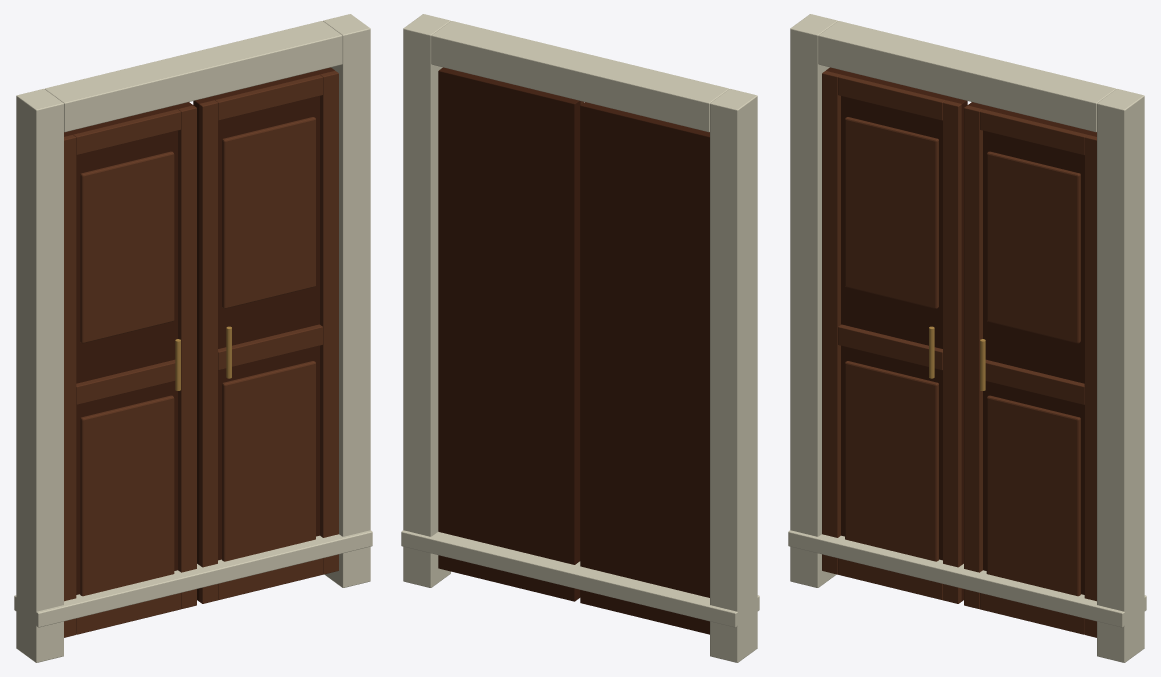
The model's file is source-edit.glb.
3 renders of one model, left to right at view 1: azimuth 30°, elevation 25°; view 2: azimuth 150°, elevation 25°; view 3: azimuth 330°, elevation 25°, orthographic.
Parts seen in each view (by area): view 1: DOOR_Jamb, DOOR_Jamb.001, Left_RaisedPanel, Right_RaisedPanel, Left_RaisedPanel.001, Right_RaisedPanel.001, DOOR_Header, Right_Core, Left_Core, Right_Stile.001, Right_Stile, Left_Stile.001 (+8 smaller); view 2: Right_Core, Left_Core, DOOR_Jamb, DOOR_Jamb.001, DOOR_Header, DOOR_Sill; view 3: DOOR_Jamb.001, DOOR_Jamb, Right_RaisedPanel, Left_RaisedPanel, Right_RaisedPanel.001, Left_RaisedPanel.001, DOOR_Header, Left_Core, Right_Core, Left_Stile.001, Left_Stile, Right_Stile.001 (+8 smaller).
Boxes of the visible parts, x1=… form: DOOR_Jamb: x1=16, y1=89, x2=63, y2=662; DOOR_Jamb.001: x1=323, y1=14, x2=370, y2=587; Left_RaisedPanel: x1=80, y1=395, x2=174, y2=596; Right_RaisedPanel: x1=222, y1=361, x2=315, y2=561; Left_RaisedPanel.001: x1=80, y1=151, x2=174, y2=343; Right_RaisedPanel.001: x1=222, y1=117, x2=315, y2=308; DOOR_Header: x1=45, y1=21, x2=342, y2=132; Right_Core: x1=193, y1=67, x2=334, y2=601; Left_Core: x1=64, y1=102, x2=192, y2=594; Right_Stile.001: x1=199, y1=100, x2=217, y2=603; Right_Stile: x1=320, y1=71, x2=338, y2=574; Left_Stile.001: x1=178, y1=105, x2=196, y2=609; Right_Core: x1=438, y1=67, x2=580, y2=601; Left_Core: x1=580, y1=102, x2=709, y2=634; DOOR_Jamb: x1=710, y1=89, x2=757, y2=662; DOOR_Jamb.001: x1=403, y1=14, x2=450, y2=587; DOOR_Header: x1=431, y1=21, x2=728, y2=132; DOOR_Sill: x1=401, y1=530, x2=759, y2=627; DOOR_Jamb.001: x1=1097, y1=89, x2=1144, y2=662; DOOR_Jamb: x1=790, y1=14, x2=837, y2=587; Right_RaisedPanel: x1=986, y1=395, x2=1080, y2=596; Left_RaisedPanel: x1=845, y1=361, x2=938, y2=561; Right_RaisedPanel.001: x1=986, y1=151, x2=1080, y2=343; Left_RaisedPanel.001: x1=845, y1=117, x2=938, y2=308; DOOR_Header: x1=818, y1=21, x2=1115, y2=132; Left_Core: x1=826, y1=67, x2=967, y2=601; Right_Core: x1=968, y1=102, x2=1096, y2=594; Left_Stile.001: x1=943, y1=100, x2=961, y2=603; Left_Stile: x1=822, y1=71, x2=840, y2=574; Right_Stile.001: x1=964, y1=105, x2=982, y2=609.
Bounding box in the file's own units: 1.9 × 3 × 0.24.
